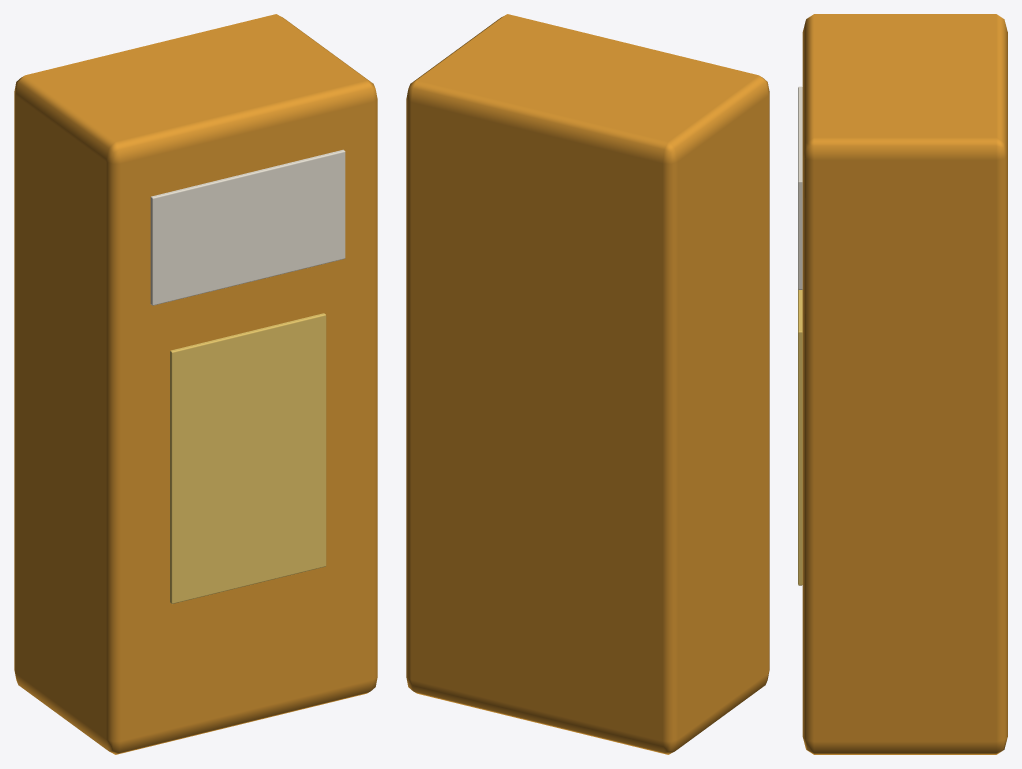
The model's file is wp-paquet-de-pates.glb.
3 renders of one model, left to right at view 1: azimuth 30°, elevation 25°; view 2: azimuth 150°, elevation 25°; view 3: azimuth 270°, elevation 25°, orthographic.
Visible parts, largest first — view 1: wp-paquet-de-pates; view 2: wp-paquet-de-pates; view 3: wp-paquet-de-pates.
Boxes of the visible parts, <box> form: wp-paquet-de-pates: <box>14,14,377,754</box>; wp-paquet-de-pates: <box>406,14,769,754</box>; wp-paquet-de-pates: <box>798,14,1007,754</box>.
Size of the model in its own units: 0.12 by 0.26 by 0.08.
